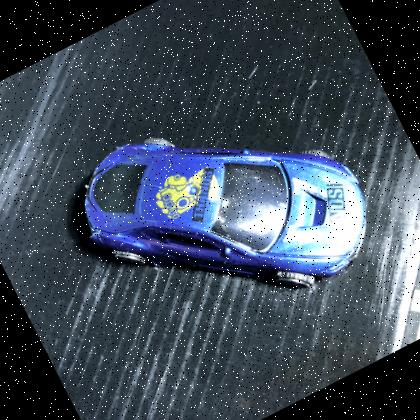Car: (82, 140, 368, 290)
